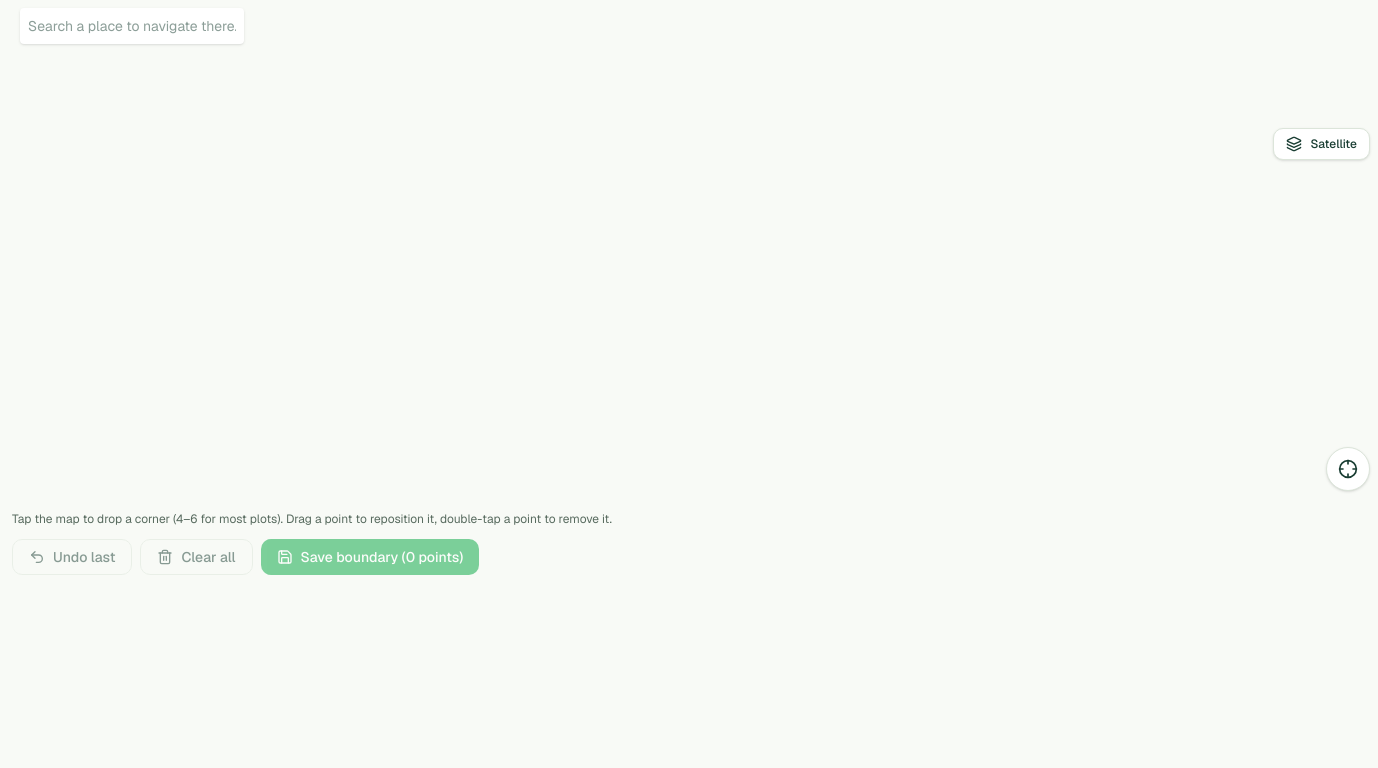
Test: ManualBoundaryDrawer — locate me › shows an error when location permission is denied
Click the button named "Return to my location": (1348, 469) [1326, 447, 1370, 491]
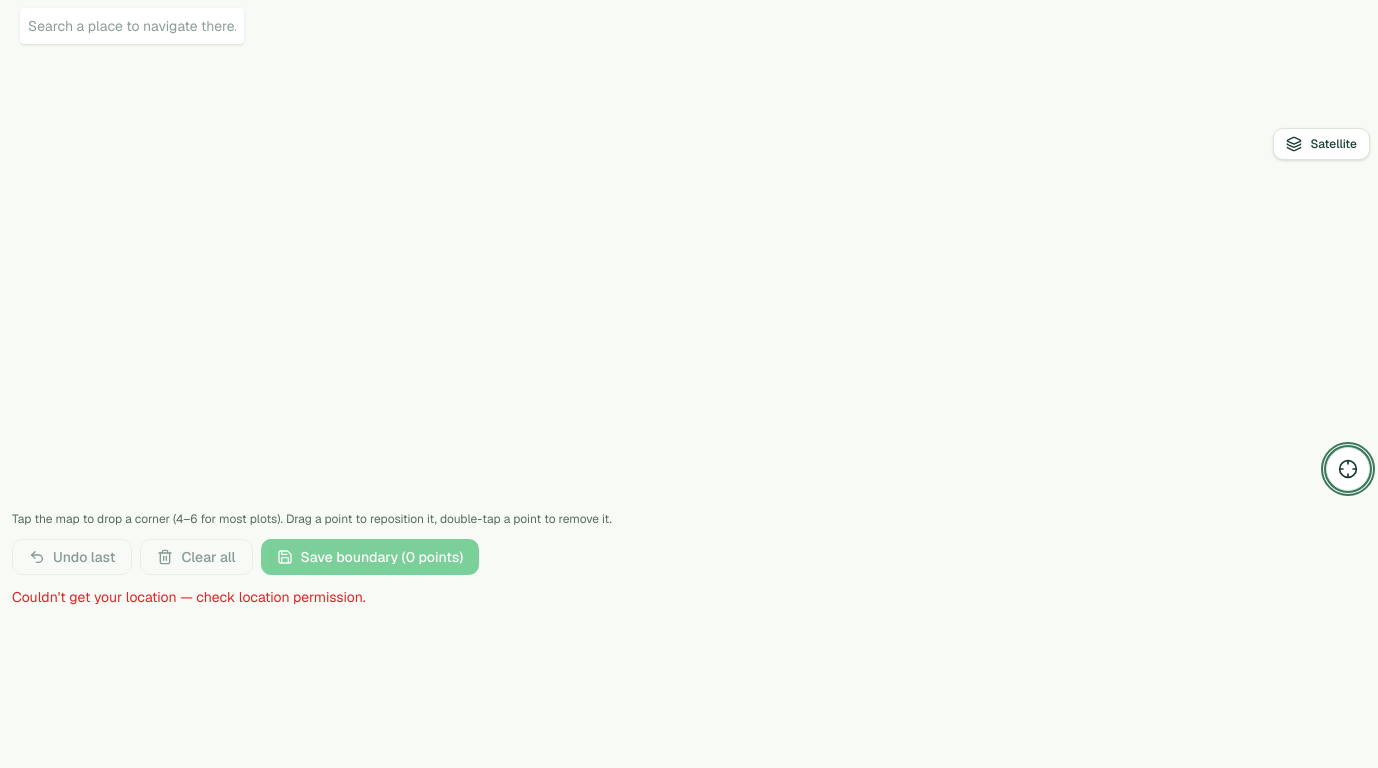
Expected: the text "Couldn't get your location — check location permission." is shown, [12, 588, 366, 606]
